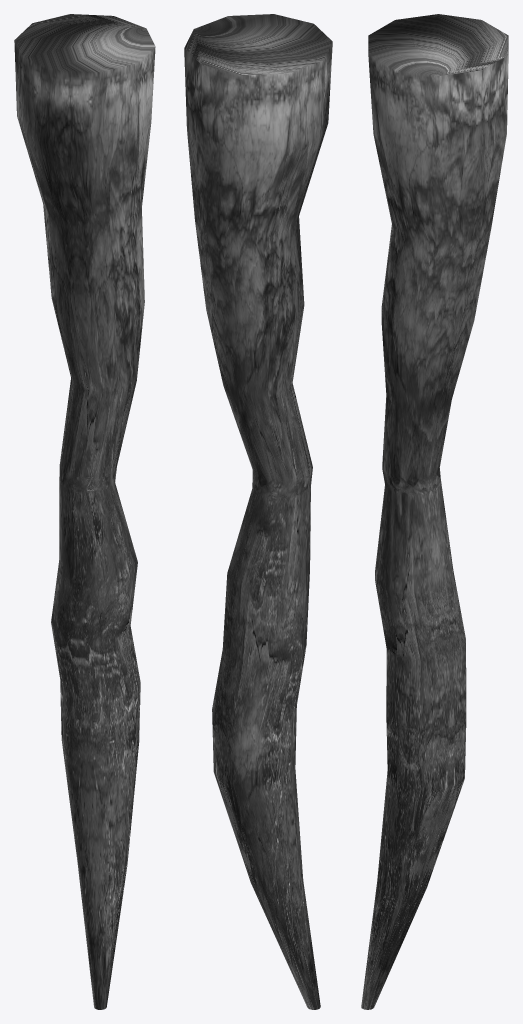
Rendered from stalag2.obj.
3 views of the same model, side by side, from view 1: azimuth 30°, elevation 25°; view 2: azimuth 150°, elevation 25°; view 3: azimuth 270°, elevation 25° (orthographic). The views are drawn at different scales.
Parts seen in each view (by area): view 1: stalag1; view 2: stalag1; view 3: stalag1.
Boxes of the visible parts, x1=… form: stalag1: x1=14, y1=14, x2=155, y2=1009; stalag1: x1=184, y1=14, x2=332, y2=1009; stalag1: x1=361, y1=14, x2=508, y2=1009.
Bounding box in the file's own units: 16.09 × 117 × 16.07.
Materials: 1 (1 with a texture image).
